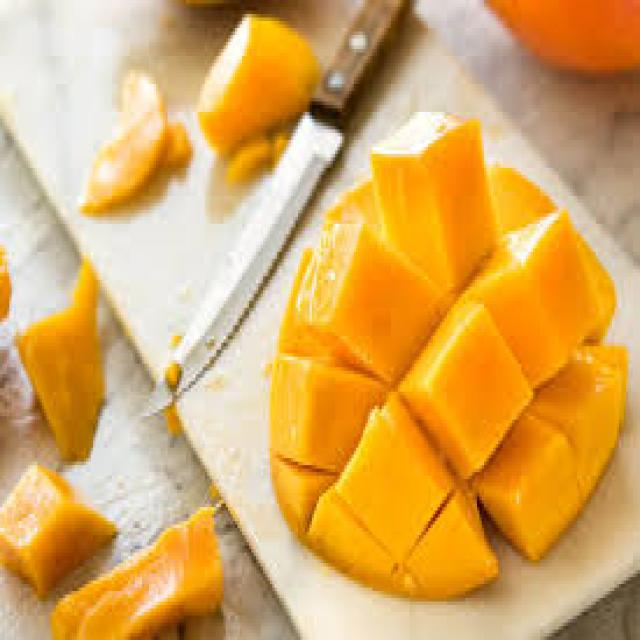mango: (270, 122, 621, 602)
